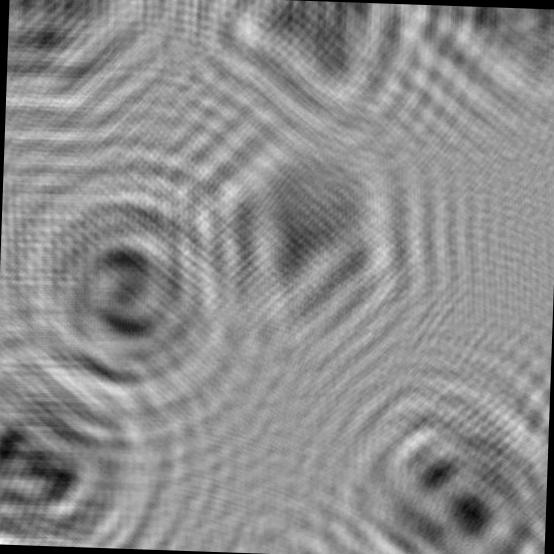B: (0, 325, 192, 551)
N: (5, 0, 181, 128)
R: (307, 366, 550, 554)
S: (0, 140, 264, 439)
V: (154, 80, 436, 380)
X: (180, 0, 453, 146)
Z: (378, 3, 554, 126)
